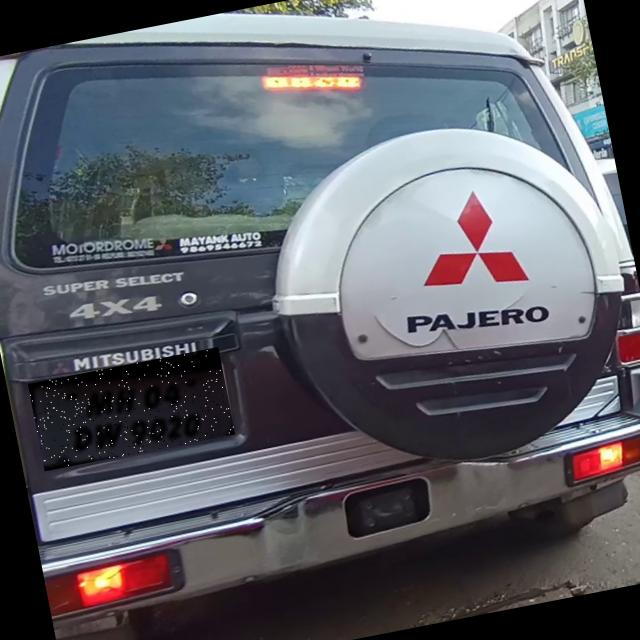Plate: (29, 348, 236, 472)
